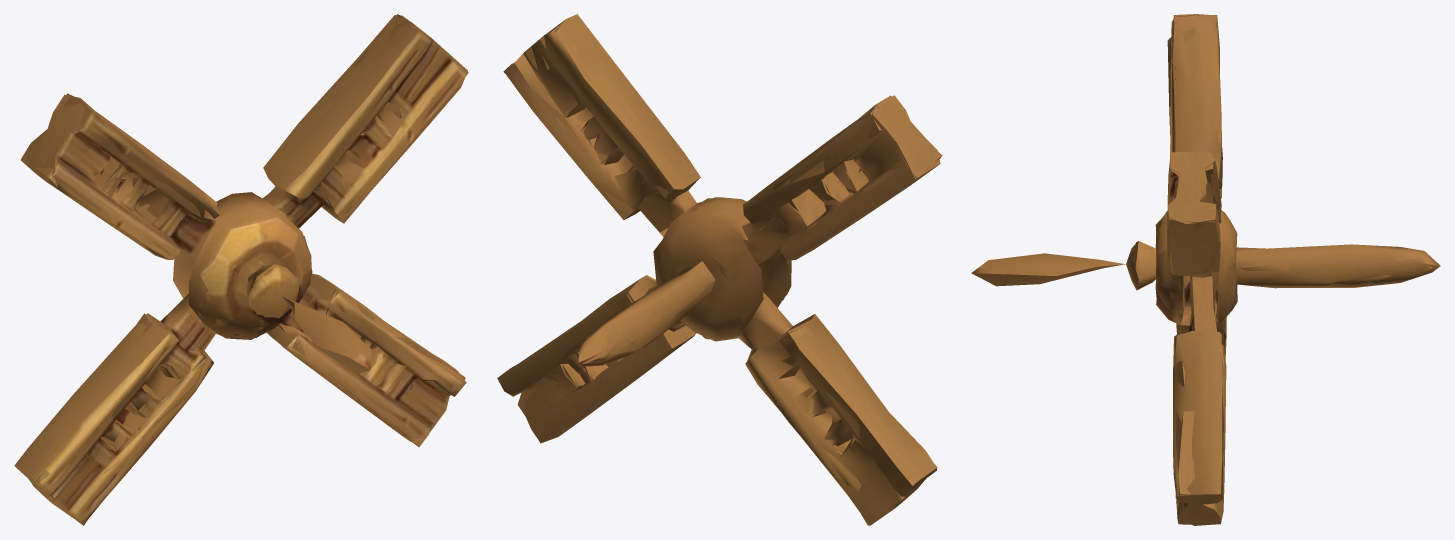
The model's file is millSails.glb.
3 renders of one model, left to right at view 1: azimuth 30°, elevation 25°; view 2: azimuth 150°, elevation 25°; view 3: azimuth 270°, elevation 25°, orthographic. The views are drawn at different scales.
Parts seen in each view (by area): view 1: Mesh_0.001; view 2: Mesh_0.001; view 3: Mesh_0.001.
Part boxes in pixels (left/top/right/bottom): Mesh_0.001: left=14, top=14, right=468, bottom=525; Mesh_0.001: left=497, top=14, right=942, bottom=525; Mesh_0.001: left=971, top=14, right=1440, bottom=525.
Bounding box in the file's own units: 0.8857 × 0.8352 × 0.9551.
1 material, 1 textured.
